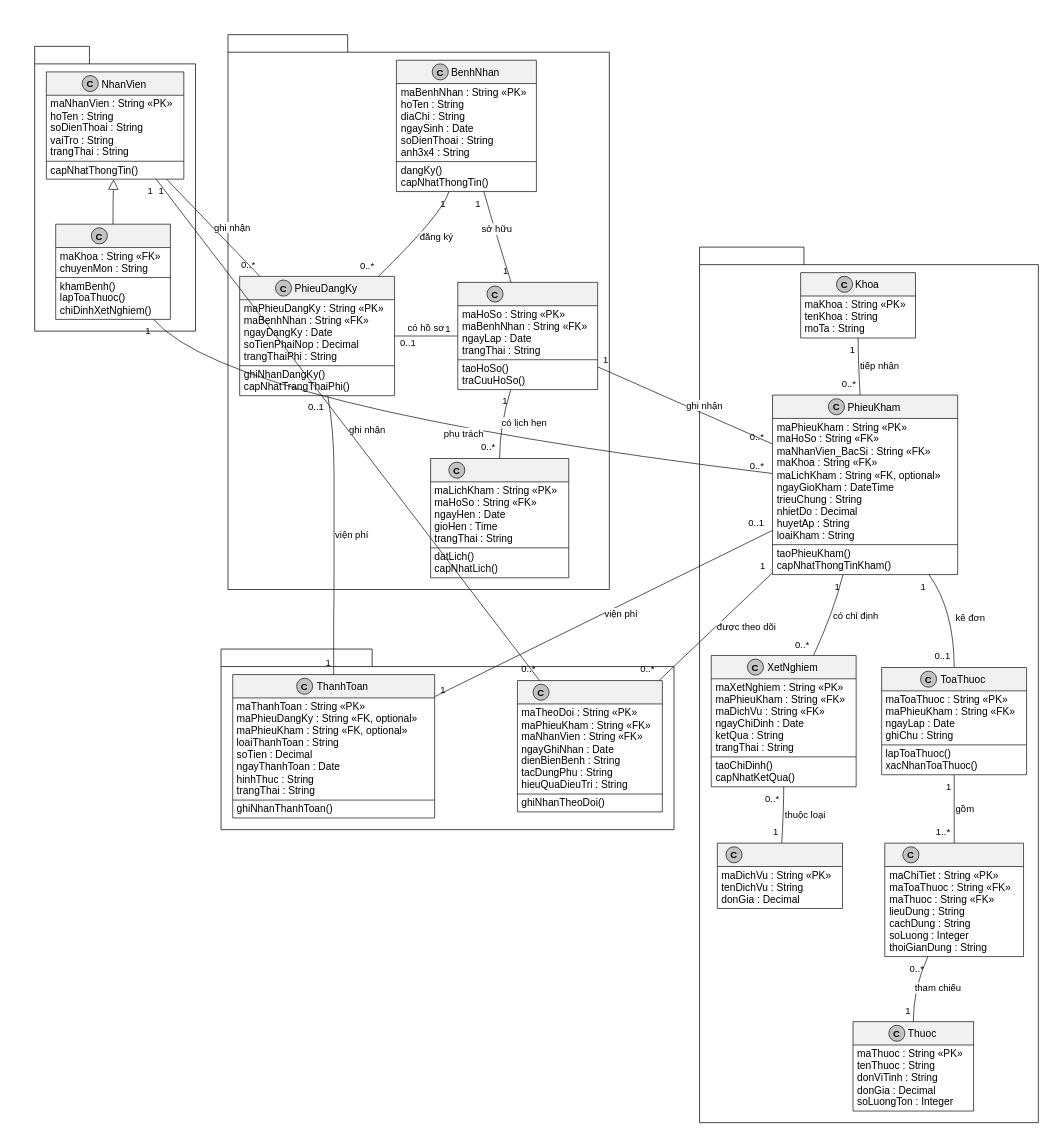
The diagram is 1051 pixels wide and 1135 high, and some of its shapes have lost their labels. The box of each missing label's shape, as (x1, y1, x2, y2) in pixels:
BacSi: (55, 223, 170, 319)
ChiTietToaThuoc: (884, 842, 1024, 957)
DichVuXetNghiem: (717, 842, 842, 908)
HoSoBenhAn: (457, 282, 598, 390)
KHÁM CHỮA BỆNH: (699, 246, 1038, 1123)
LichKhamDinhKy: (430, 458, 569, 578)
NHÂN SỰ: (34, 46, 195, 331)
QUẢN LÝ BỆNH NHÂN: (227, 34, 609, 589)
THANH TOÁN VÀ THEO DÕI: (220, 648, 674, 830)
TheoDoiSauDieuTri: (517, 680, 662, 812)
